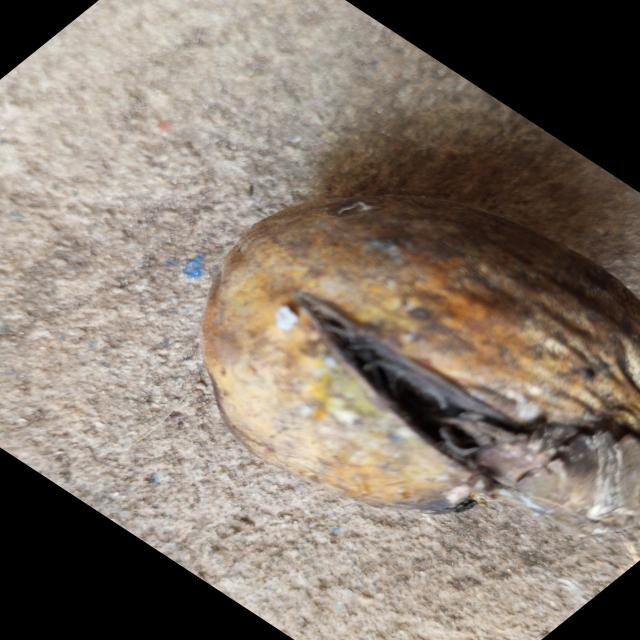damaged: (200, 164, 640, 520)
